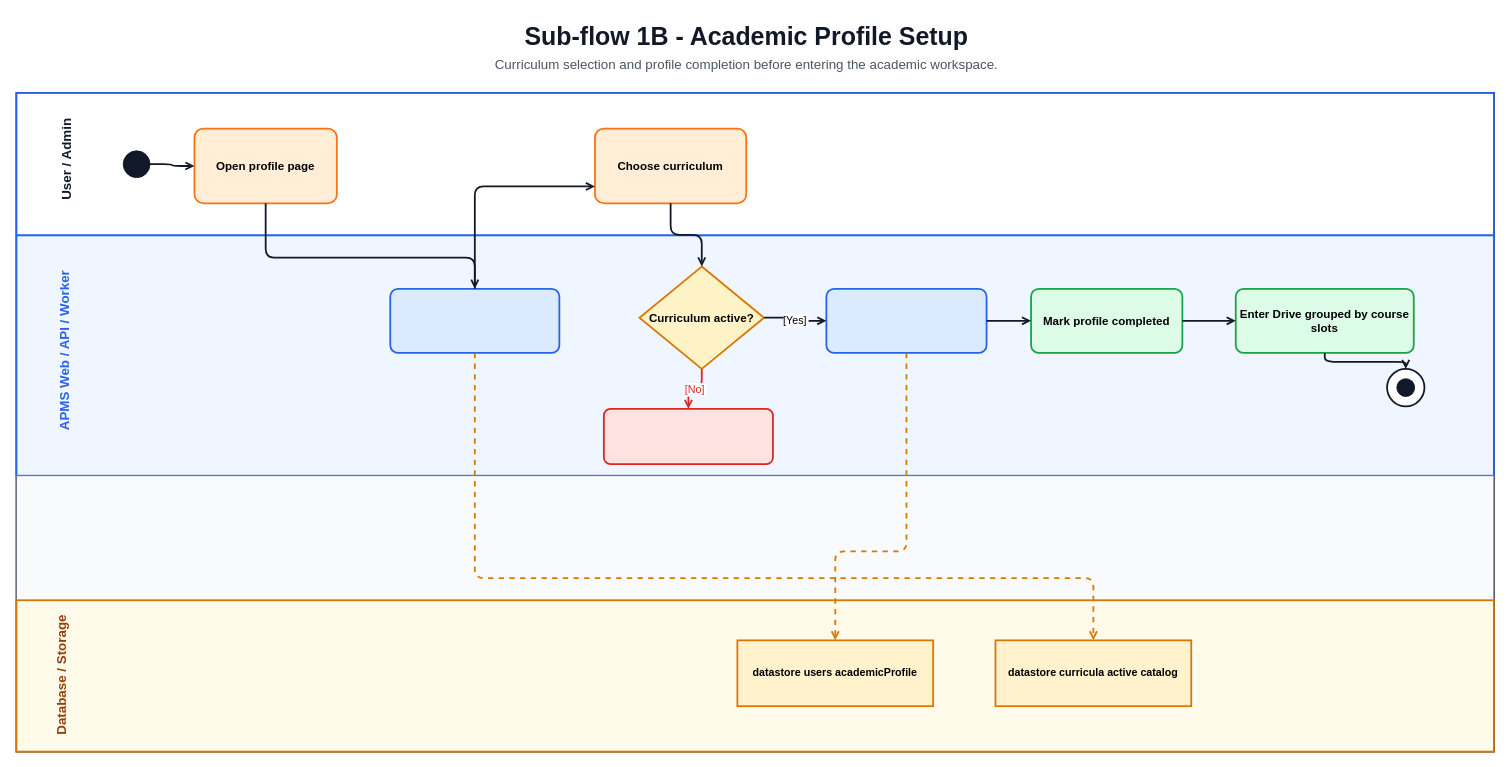
This 1509x767 diagram has some shape labels left out. The centre of each missing label's shape, as x and y in pixels:
"External Services" belongs at (x=755, y=537).
"Load profile and active curricula" belongs at (x=474, y=320).
"Save academic profile" belongs at (x=906, y=320).
"Show validation message" belongs at (x=688, y=436).
